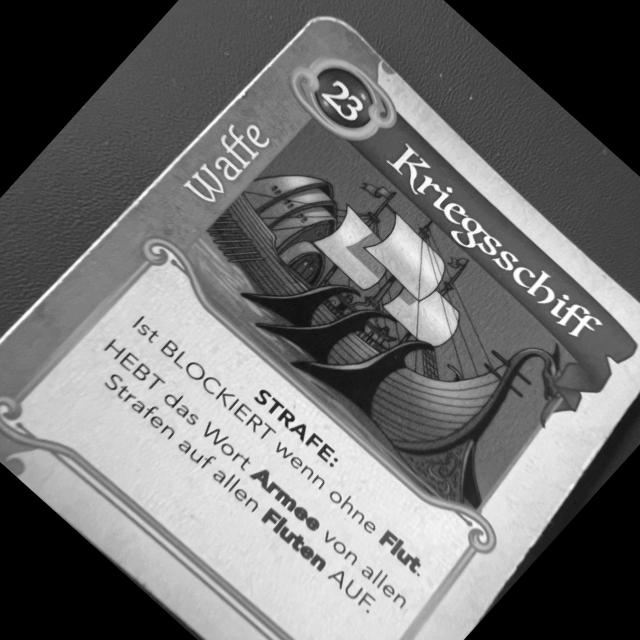Warship: (0, 1, 640, 640)
